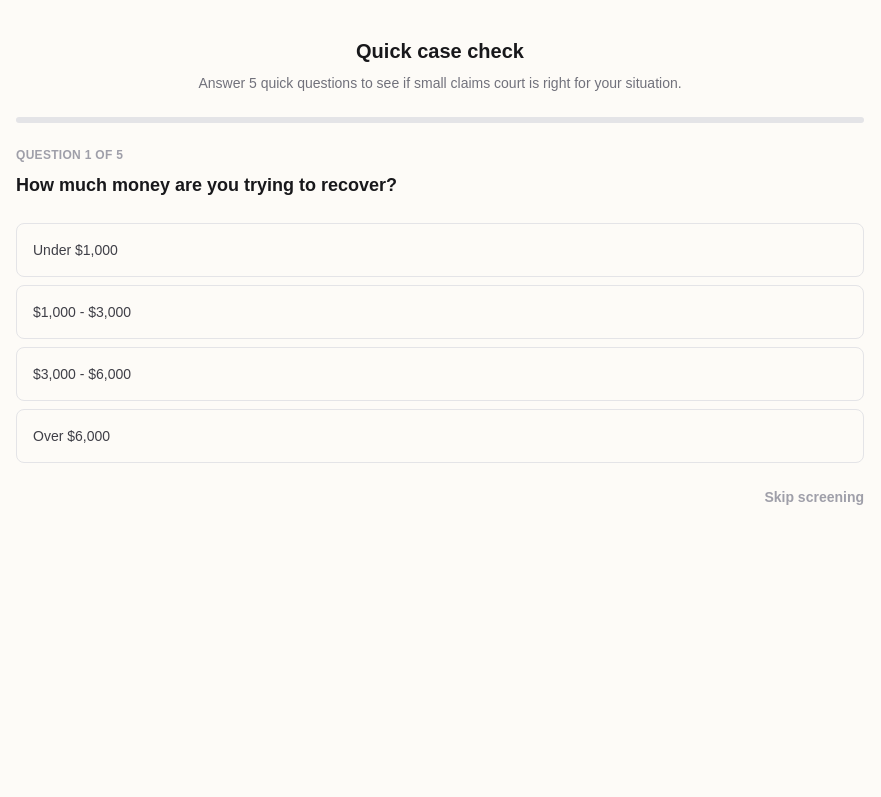
Error path integration tests › shows error toast when case creation fails on continue
Click the button "Skip screening" at coordinates (814, 497), box [764, 487, 864, 507]
(page scrolled)
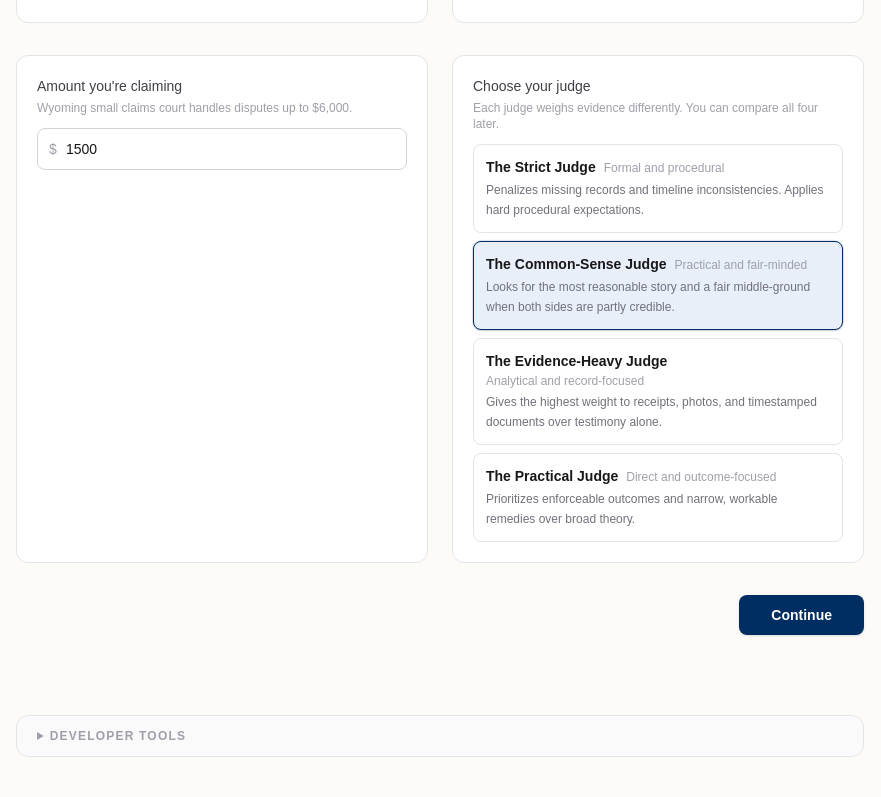
Click the button "Continue" at coordinates (802, 615), box [739, 595, 864, 635]
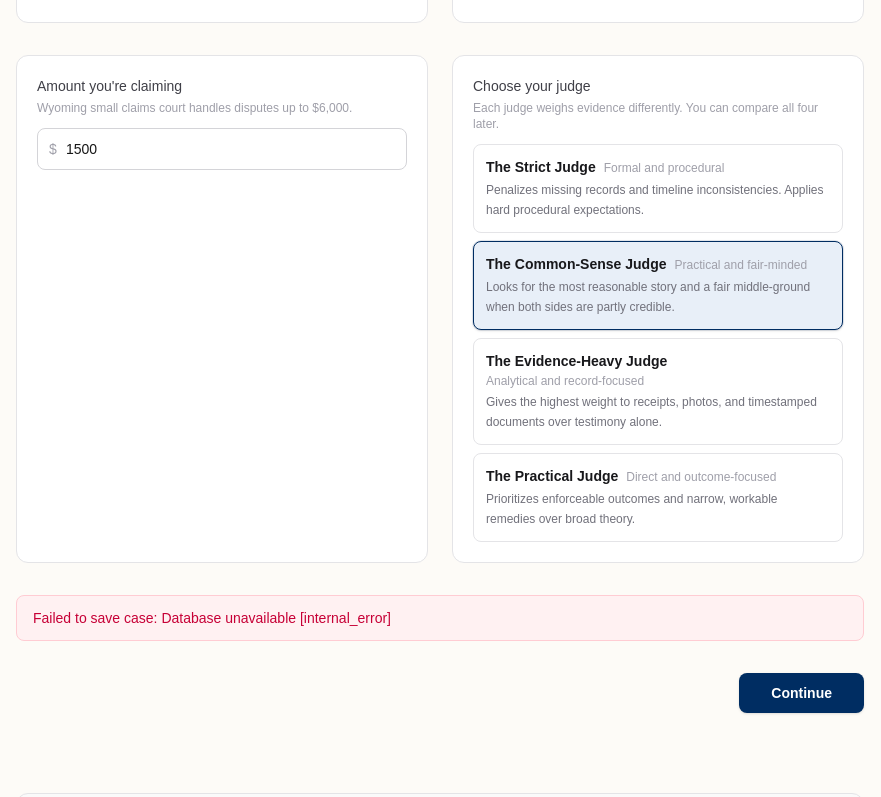
Check: the text "Failed to save case: Database unavailable [internal_error]" is shown, box [16, 595, 864, 641]
